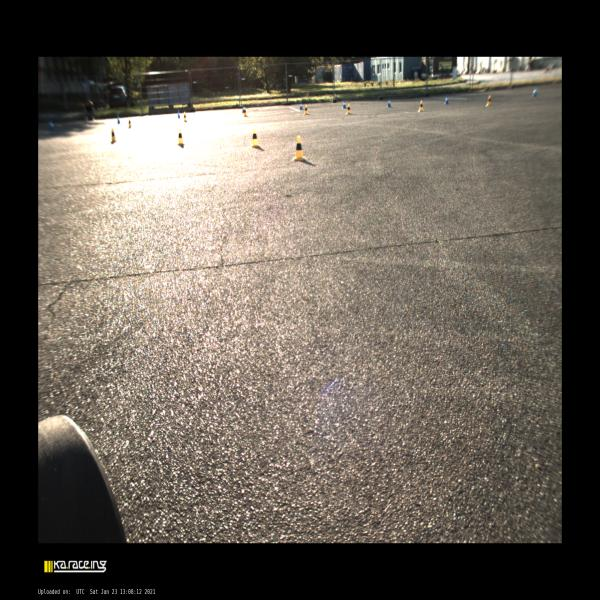blue_cone: (531, 86, 538, 98), (443, 94, 450, 105), (386, 98, 392, 108), (342, 99, 347, 109), (177, 109, 181, 119), (299, 101, 303, 110), (117, 114, 120, 124), (242, 104, 245, 113)
yellow_cone: (292, 136, 306, 161), (251, 128, 260, 148), (176, 129, 184, 145), (485, 94, 492, 107), (111, 128, 116, 143), (418, 100, 424, 112), (304, 104, 310, 116), (346, 103, 352, 114), (243, 106, 248, 117), (183, 111, 187, 123), (128, 119, 131, 129)
